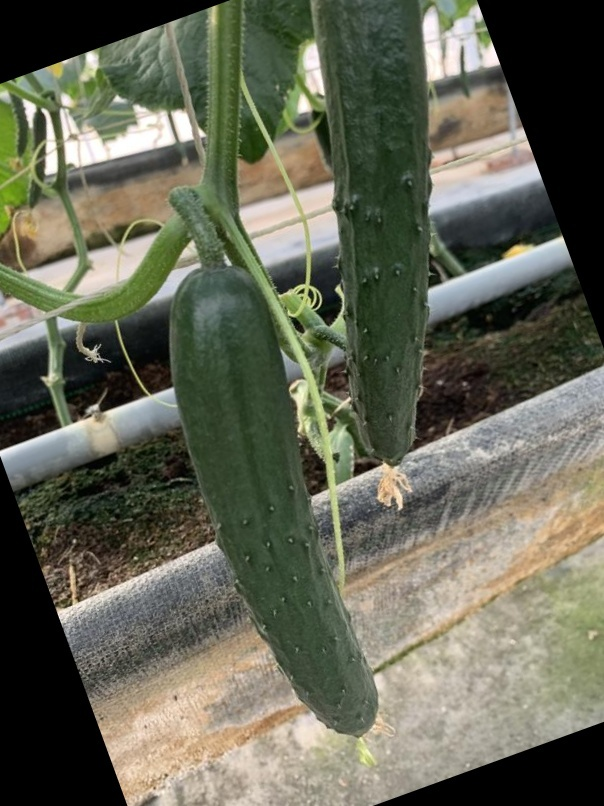mature: (158, 275, 381, 759), (303, 0, 434, 472)
